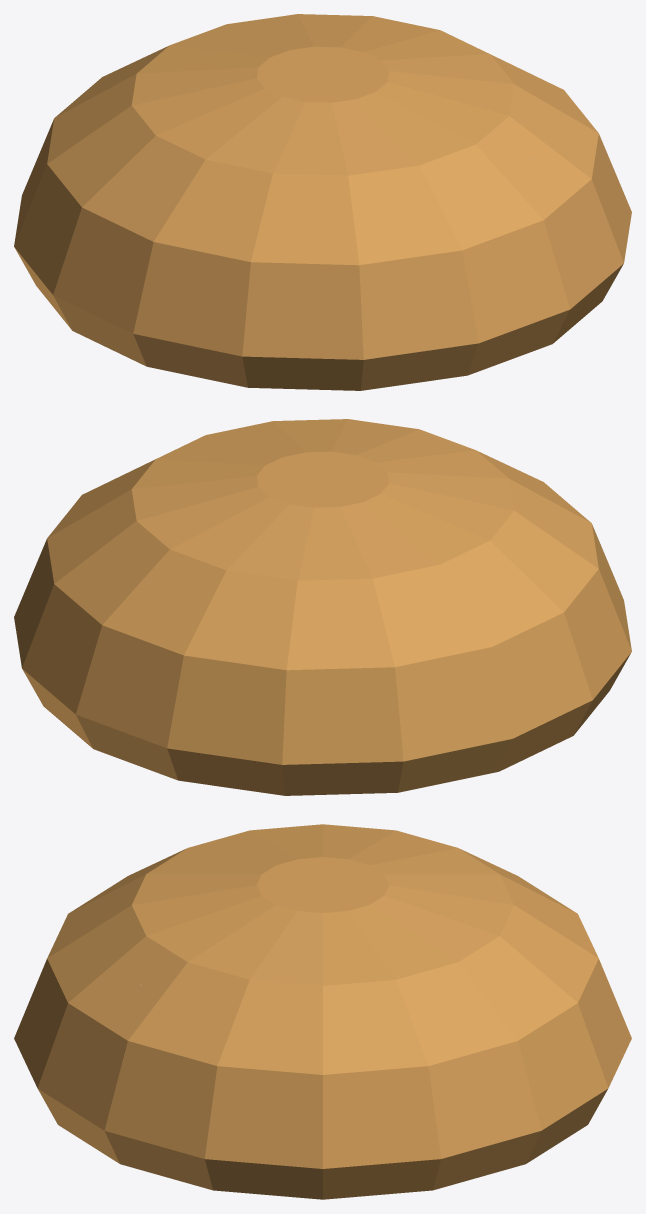
The model's file is Bun_Top.glb.
The picture shows the model from 3 angles, top to bottom: view 1: azimuth 30°, elevation 25°; view 2: azimuth 150°, elevation 25°; view 3: azimuth 270°, elevation 25°; orthographic projection.
Parts seen in each view (by area): view 1: Bun_Top; view 2: Bun_Top; view 3: Bun_Top.
Boxes of the visible parts, x1=… form: Bun_Top: x1=14, y1=14, x2=631, y2=390; Bun_Top: x1=14, y1=419, x2=631, y2=795; Bun_Top: x1=14, y1=824, x2=631, y2=1199.
Bounding box in the file's own units: 0.168 × 0.058 × 0.168.
